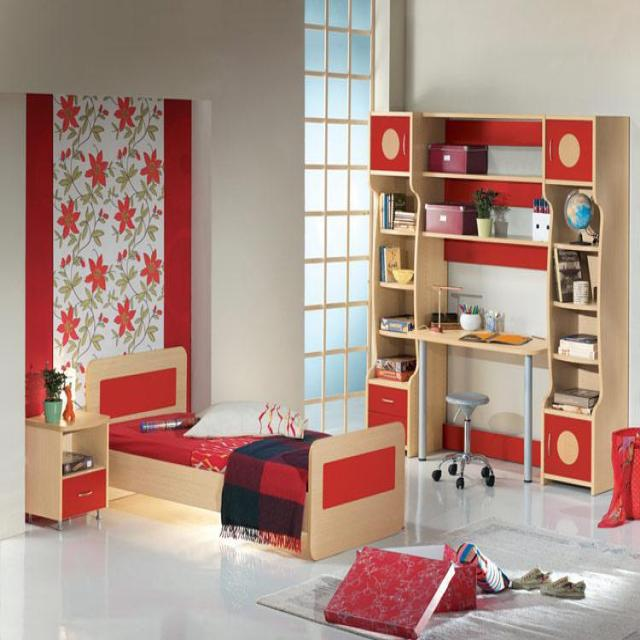other: (44, 107, 178, 331), (116, 404, 306, 494), (349, 534, 474, 624), (319, 446, 402, 504), (603, 424, 638, 526), (543, 114, 594, 181), (367, 115, 409, 170), (61, 471, 111, 517), (98, 377, 170, 408)
